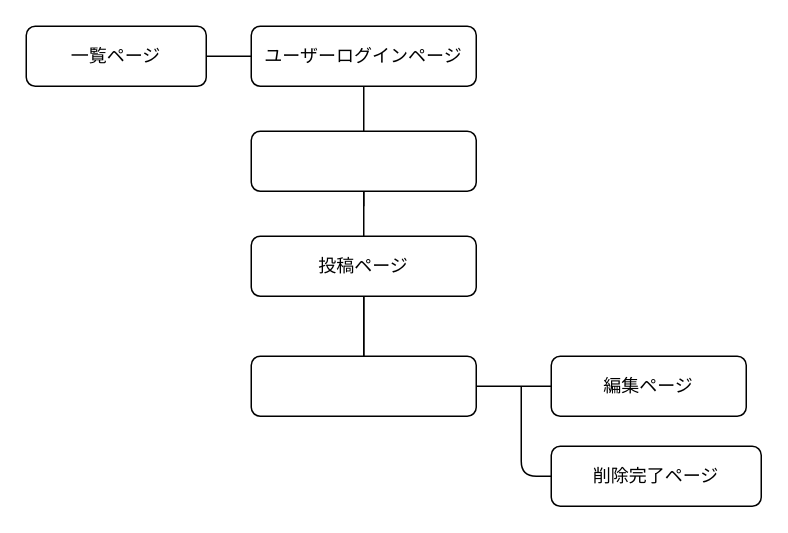
Image size: 788x533. Some labels were removed from this diagram. Here are the shapes that lost their labels. From the top down, the centre of each, then its label:
the point at 363,160: ユーザー新規登録ページ
the point at 363,385: 詳細ページ
